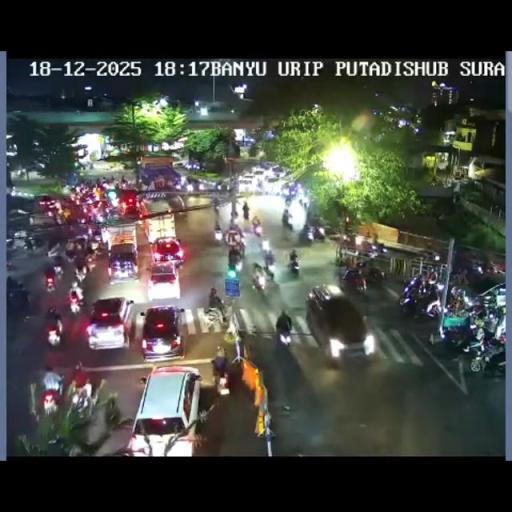Car: (126, 365, 202, 454), (303, 286, 372, 362), (86, 296, 136, 350), (139, 305, 186, 360), (146, 261, 182, 301), (106, 241, 140, 282), (150, 236, 186, 266), (476, 282, 505, 310), (118, 189, 144, 217), (38, 194, 59, 214), (238, 174, 254, 192), (266, 172, 280, 190), (251, 168, 266, 182), (270, 164, 282, 175), (259, 161, 273, 170)
Motorcycle: (247, 222, 314, 290), (399, 278, 442, 318), (435, 313, 477, 352), (466, 334, 504, 372), (38, 372, 63, 416), (68, 378, 94, 415), (210, 346, 228, 391), (446, 286, 472, 315), (342, 266, 367, 294), (9, 286, 30, 316), (482, 306, 502, 334), (362, 265, 386, 288), (46, 314, 63, 346), (208, 288, 224, 318), (450, 267, 470, 288), (250, 268, 266, 294), (228, 246, 244, 270), (68, 290, 83, 314), (277, 322, 292, 346), (23, 235, 43, 252), (261, 242, 274, 268), (422, 249, 442, 265), (288, 248, 300, 274), (64, 238, 78, 260), (74, 261, 88, 282), (298, 226, 314, 244), (90, 208, 106, 225), (312, 224, 326, 242), (90, 229, 104, 247), (52, 261, 64, 280), (54, 210, 68, 226), (426, 268, 438, 286), (374, 240, 388, 254), (252, 218, 262, 236), (264, 263, 274, 281), (334, 248, 344, 266), (228, 176, 238, 194), (282, 214, 292, 230), (214, 224, 222, 243), (6, 236, 16, 250), (80, 160, 94, 170), (172, 177, 183, 189), (255, 181, 265, 194), (342, 232, 352, 245), (298, 197, 308, 209), (212, 200, 220, 214), (214, 180, 224, 191), (284, 194, 293, 206), (230, 207, 238, 220), (16, 168, 26, 178), (186, 181, 194, 192), (242, 207, 249, 219), (6, 262, 14, 271)
